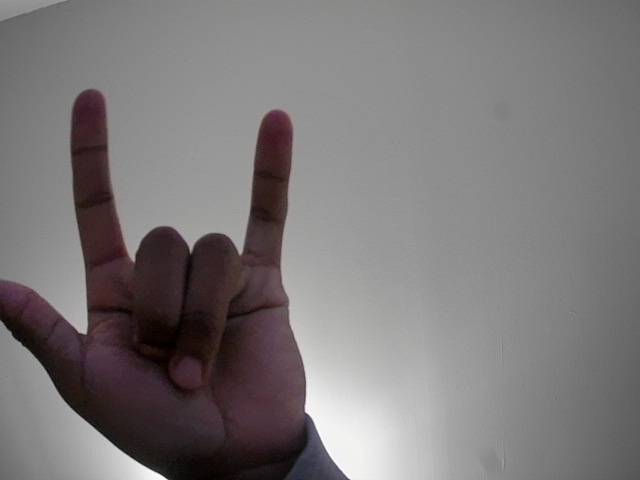ILoveYou: (1, 50, 336, 478)
